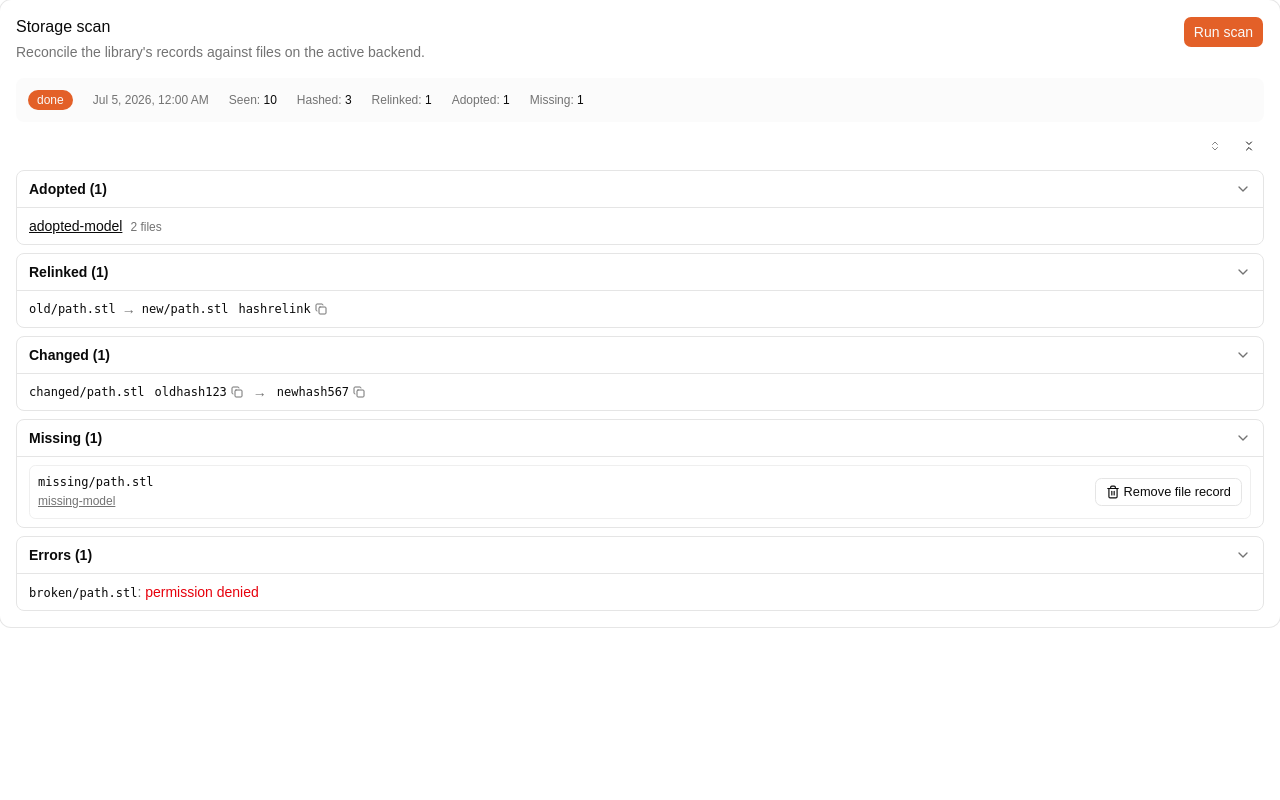
ScanReport › toggles an individual section open and closed independently on click
The image size is (1280, 800).
Expected: the link "adopted-model" is shown, x1=29 y1=218 x2=122 y2=234
Click the button "Adopted (1)" at (57, 189), box x1=17 y1=171 x2=1263 y2=207
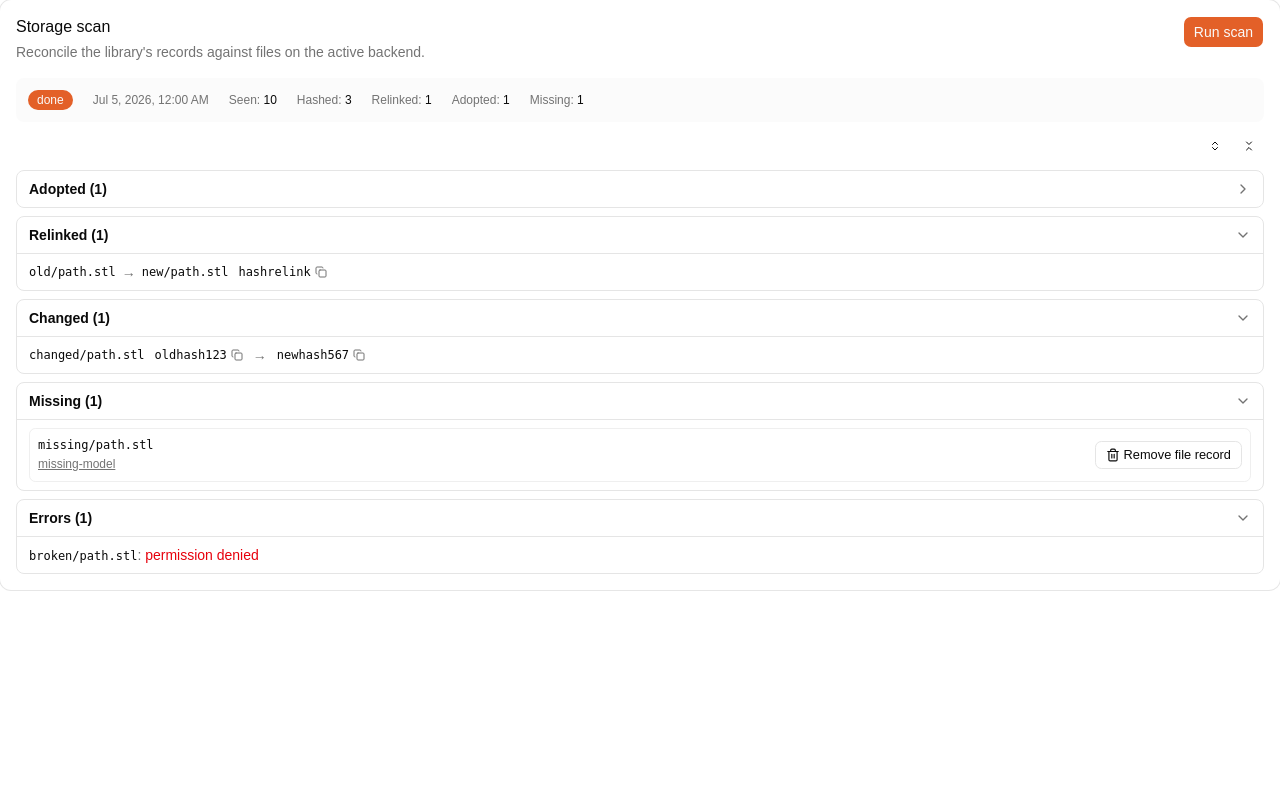
Result: the button "Adopted (1)" is collapsed
Result: the link "adopted-model" is gone
Click the button "Adopted (1)" at (57, 189), box x1=17 y1=171 x2=1263 y2=207
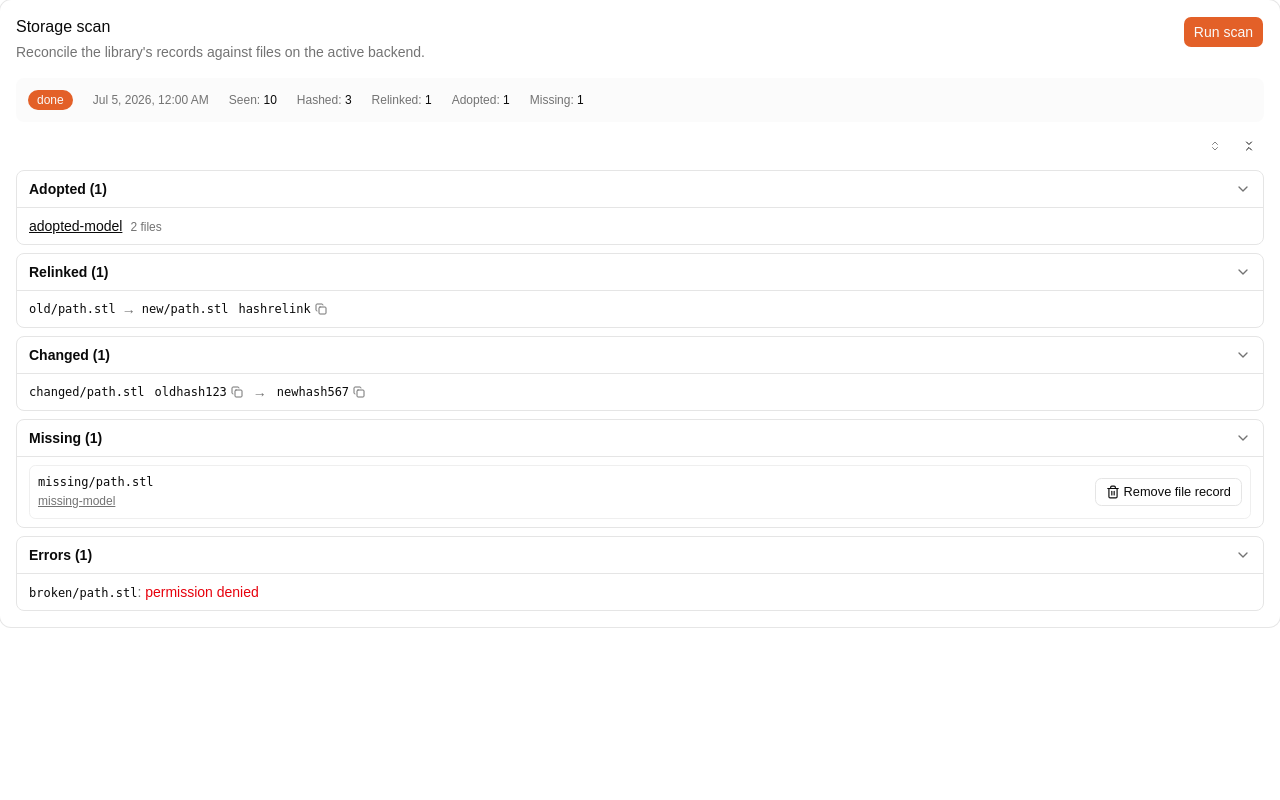
Result: the button "Adopted (1)" is expanded at x1=17 y1=171 x2=1263 y2=207
Result: the link "adopted-model" is shown at x1=29 y1=218 x2=122 y2=234
